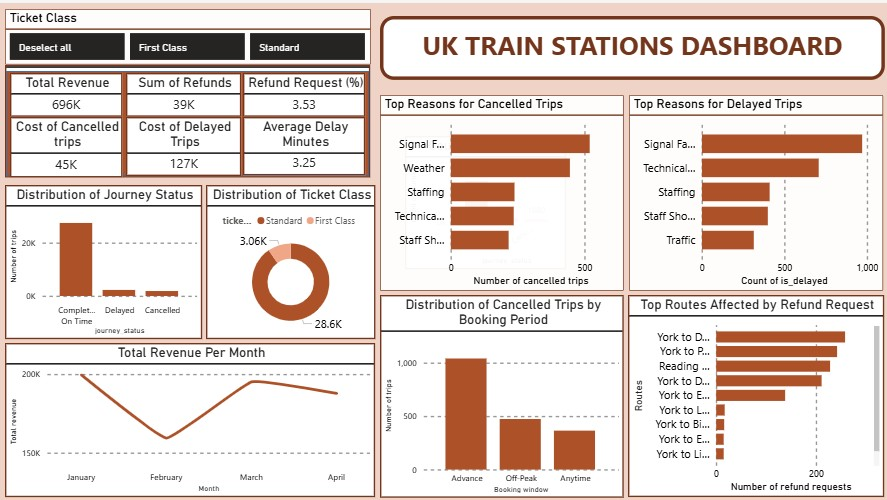

This screenshot's page, from the dashboard's own definition file:
{"tool":"powerbi","page":{"name":"Page 1","canvas":[1280,720],"ordinal":0},"visuals":[{"type":"shape","box":[7.3,89.6,526,161.6],"z":0},{"type":"textbox","box":[546.7,18.3,726.7,91.7],"z":1000},{"type":"lineChart","title":"Total Revenue Per Month","fields":{"Category":["railway_processed_dataset.date_of_journey.Variation.Date Hierarchy.Month"],"Y":["Sum(railway_processed_dataset.price)"]},"box":[7.3,489.3,533.4,221.9],"z":2000},{"type":"card","title":"Cost of Cancelled trips","fields":{"Values":["Sum(railway_processed_dataset.price)"]},"box":[14.7,164.6,161.6,86.7],"z":3000},{"type":"card","title":"Cost of Delayed Trips","fields":{"Values":["Sum(railway_processed_dataset.price)"]},"box":[180.7,164.6,166,85.2],"z":4000},{"type":"clusteredColumnChart","title":"Count of Trip Status","fields":{"Category":["railway_processed_dataset.journey_status"],"Y":["CountNonNull(railway_processed_dataset.journey_status)"]},"box":[583.3,191.7,231.7,191.7],"z":5000},{"type":"card","title":"Total Revenue","fields":{"Values":["Sum(railway_processed_dataset.price)"]},"box":[14.7,101.4,161.6,63.2],"z":6000},{"type":"card","title":"Sum of Refunds","fields":{"Values":["Sum(railway_processed_dataset.price)"]},"box":[180.7,101.4,166,63.2],"z":7000},{"type":"card","title":"Refund Request (%)","fields":{"Values":["railway_processed_dataset.refund percentage"]},"box":[349.7,101.4,176.3,63.2],"z":8000},{"type":"clusteredBarChart","title":"Top Reasons for Delayed Trips","fields":{"Category":["railway_processed_dataset.Cleaned Reason"],"Y":["CountNonNull(railway_processed_dataset.is_delayed)"]},"box":[905.1,132.2,365.9,282.1],"z":9000},{"type":"clusteredBarChart","title":"Top Routes Affected by Refund Request","fields":{"Category":["railway_processed_dataset.route"],"Y":["CountNonNull(railway_processed_dataset.refund_request)"]},"box":[903.7,420.2,368.8,290.9],"z":10000},{"type":"clusteredColumnChart","title":"Distribution of Cancelled Trips by Booking Period","fields":{"Y":["CountNonNull(railway_processed_dataset.is_cancelled)"],"Category":["railway_processed_dataset.ticket_type"]},"box":[546.6,420.2,351.2,292.4],"z":11000},{"type":"advancedSlicerVisual","title":"Ticket Class","fields":{"Values":["railway_processed_dataset.ticket_class"]},"box":[6.7,8.3,526.7,80],"z":12000},{"type":"card","title":"Average Delay Minutes","fields":{"Values":["Avg(railway_processed_dataset.delay_minutes)"]},"box":[349.7,164.6,176.3,83.8],"z":13000},{"type":"donutChart","title":"Distribution of Ticket Class","fields":{"Category":["railway_processed_dataset.ticket_class"],"Y":["CountNonNull(railway_processed_dataset.ticket_class)"]},"box":[296.8,261.6,243.9,221.9],"z":14000},{"type":"clusteredBarChart","title":"Top Reasons for Cancelled Trips","fields":{"Category":["railway_processed_dataset.Cleaned Reason"],"Y":["railway_processed_dataset.Cancelled Trips"]},"box":[546.6,132.2,351.2,282.1],"z":15000},{"type":"clusteredColumnChart","title":"Distribution of Journey Status","fields":{"Category":["railway_processed_dataset.journey_status"],"Y":["CountNonNull(railway_processed_dataset.journey_status)"]},"box":[7.3,261.6,283.6,221.9],"z":16000}]}

Visuals, with their boxes in screenshot pixels (x1, y1, x2, y2), scaled from the page's 1280x720 canvas onto the 887x500 screenshot:
shape: x1=5 y1=62 x2=370 y2=174
textbox: x1=379 y1=13 x2=882 y2=76
"Total Revenue Per Month" lineChart: x1=5 y1=340 x2=375 y2=494
"Cost of Cancelled trips" card: x1=10 y1=114 x2=122 y2=175
"Cost of Delayed Trips" card: x1=125 y1=114 x2=240 y2=173
"Count of Trip Status" clusteredColumnChart: x1=404 y1=133 x2=565 y2=266
"Total Revenue" card: x1=10 y1=70 x2=122 y2=114
"Sum of Refunds" card: x1=125 y1=70 x2=240 y2=114
"Refund Request (%)" card: x1=242 y1=70 x2=365 y2=114
"Top Reasons for Delayed Trips" clusteredBarChart: x1=627 y1=92 x2=881 y2=288
"Top Routes Affected by Refund Request" clusteredBarChart: x1=626 y1=292 x2=882 y2=494
"Distribution of Cancelled Trips by Booking Period" clusteredColumnChart: x1=379 y1=292 x2=622 y2=495
"Ticket Class" advancedSlicerVisual: x1=5 y1=6 x2=370 y2=61
"Average Delay Minutes" card: x1=242 y1=114 x2=365 y2=172
"Distribution of Ticket Class" donutChart: x1=206 y1=182 x2=375 y2=336
"Top Reasons for Cancelled Trips" clusteredBarChart: x1=379 y1=92 x2=622 y2=288
"Distribution of Journey Status" clusteredColumnChart: x1=5 y1=182 x2=202 y2=336
